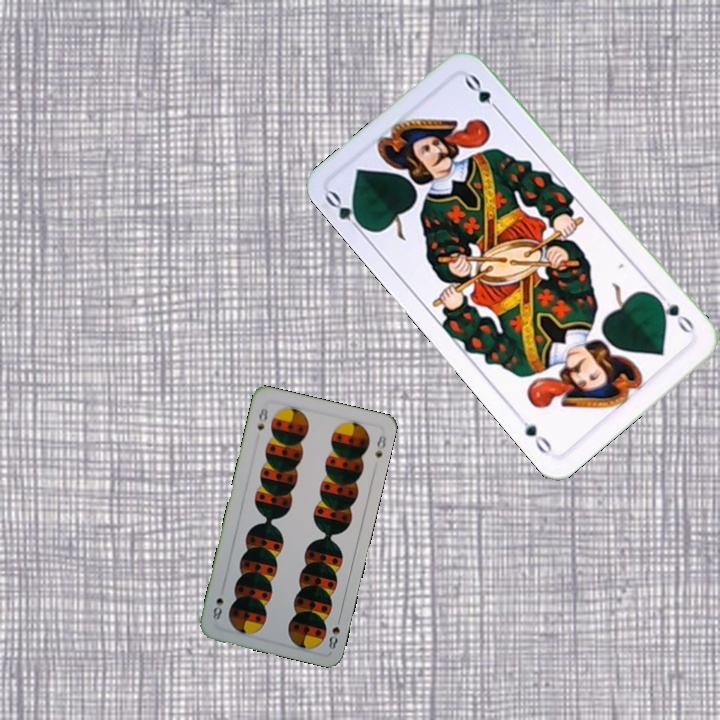GO: (321, 187, 371, 238), (652, 289, 697, 339)
S8: (324, 611, 343, 652), (253, 400, 271, 433)
